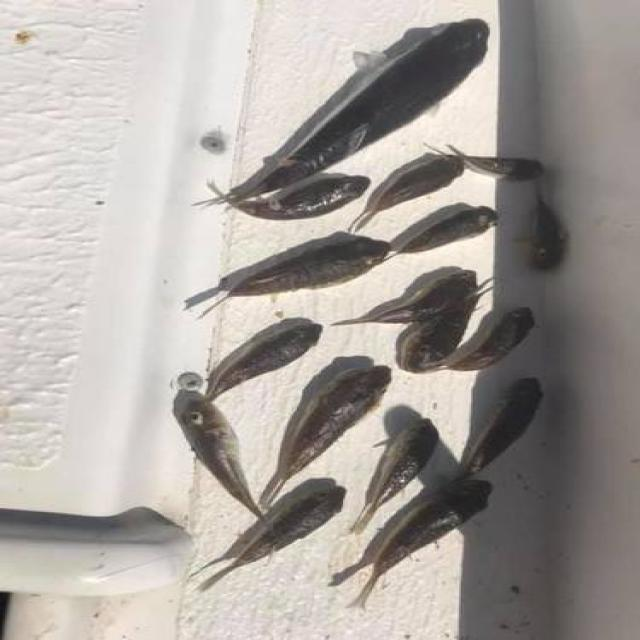Balik: (174, 320, 391, 590), (212, 19, 486, 220), (203, 151, 497, 314), (352, 378, 541, 607), (367, 269, 534, 372), (353, 420, 437, 531), (526, 207, 561, 266), (478, 156, 541, 180)
